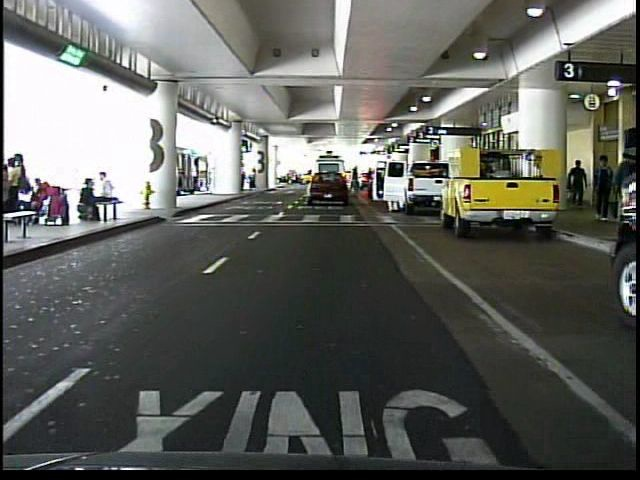person: (563, 156, 589, 213), (590, 152, 612, 219), (249, 167, 260, 191)
